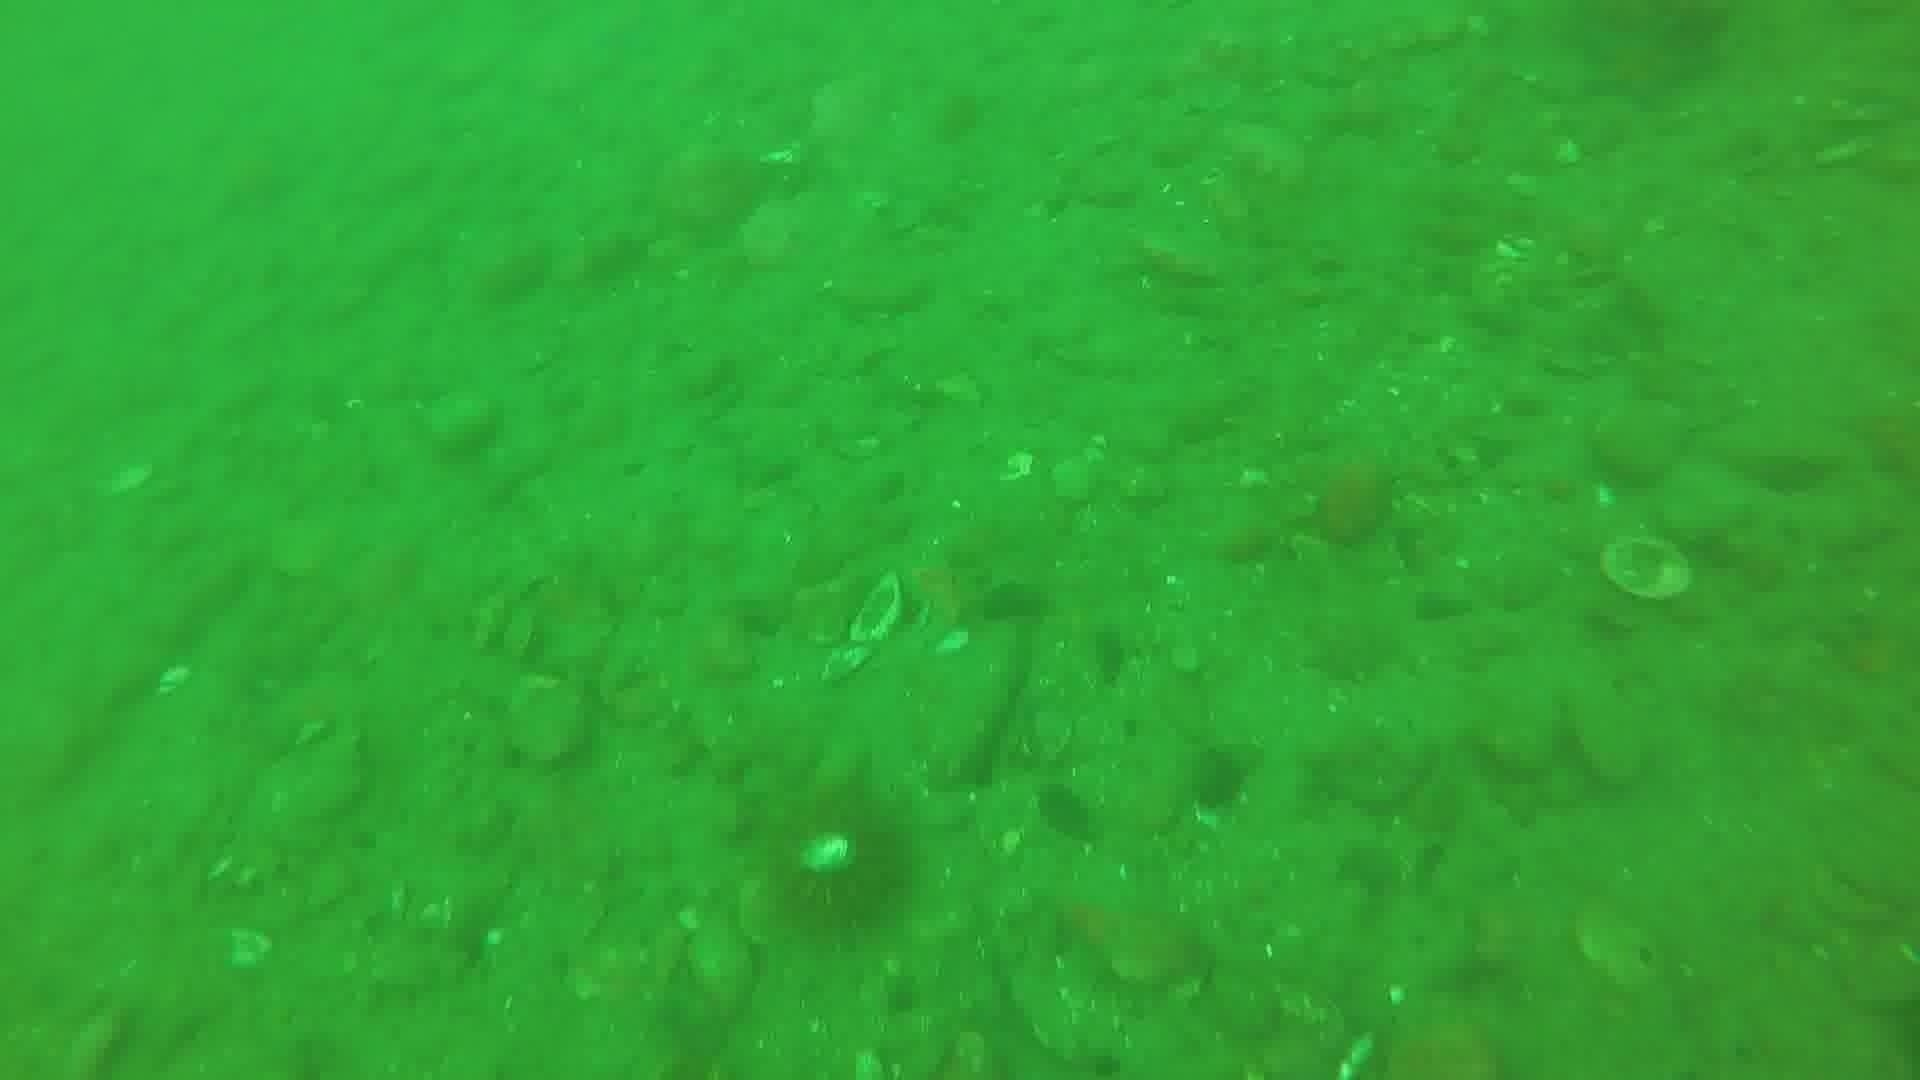echinus: (767, 798, 913, 935)
starfish: (1564, 8, 1731, 115)
